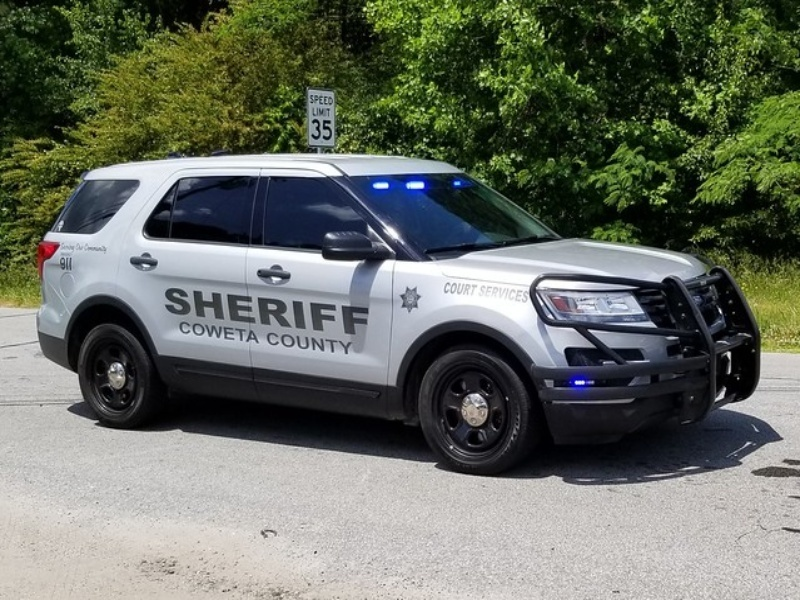policecar: (19, 156, 791, 469)
